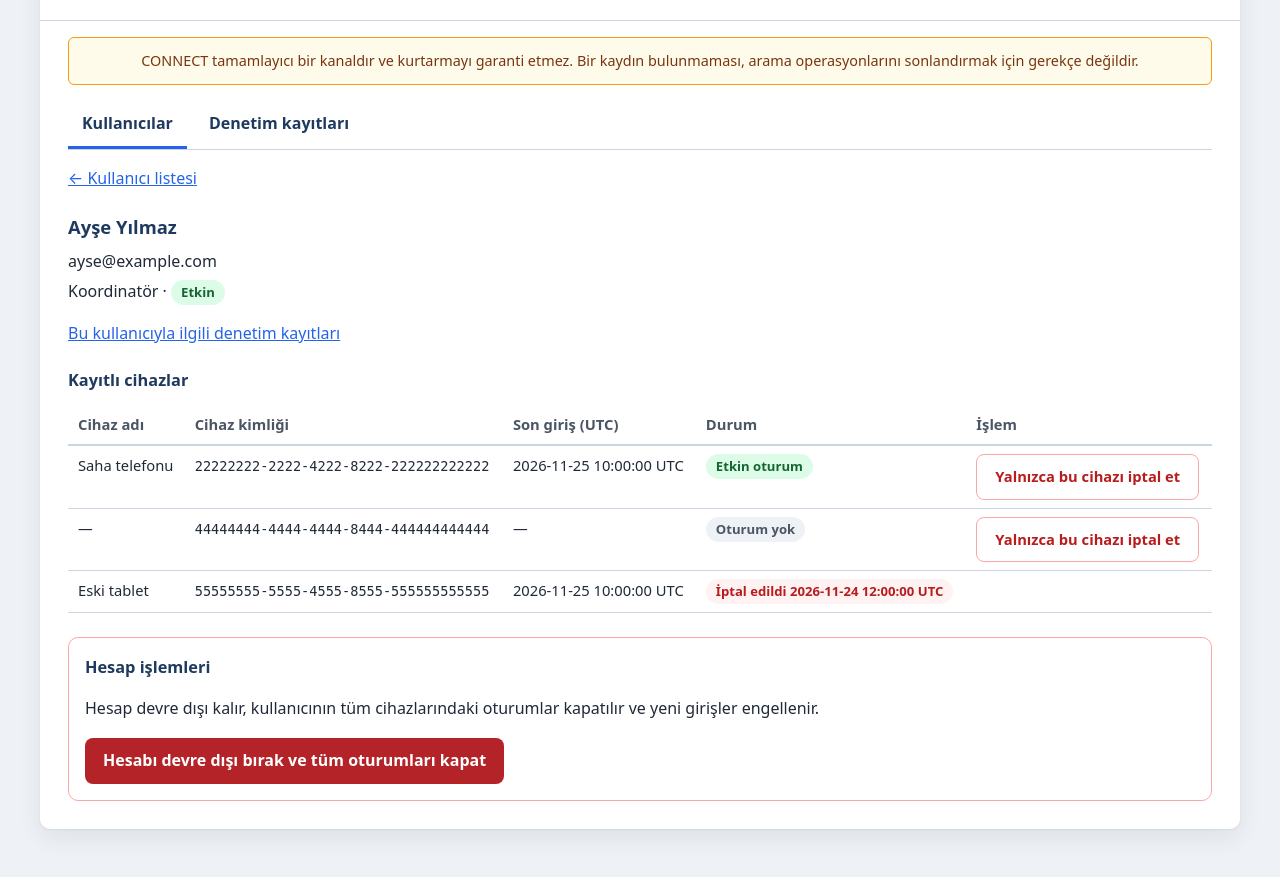
Test: UserDevicesPage › maps a server 409 on revoke-all to the self message
This screenshot has width=1280, height=877.
(page scrolled)
What coordinates should you click on to do the following:
click the button "Hesabı devre dışı bırak ve tüm oturumları kapat"
I would click on:
 (295, 761)
Its box is [85,738,504,784].
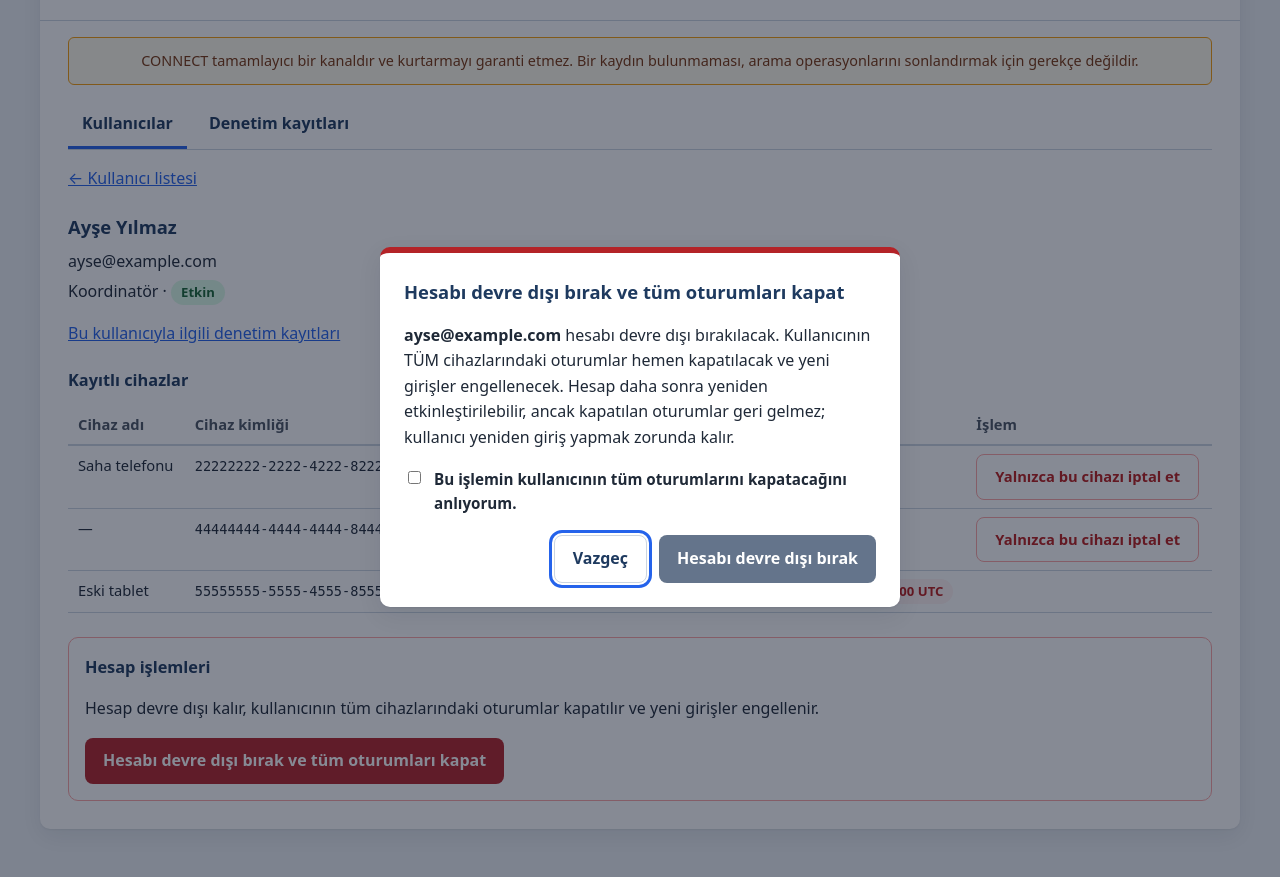
What coordinates should you click on to do the following:
click the checkbox
I would click on:
 (414, 477)
Its box is [408,471,421,484].
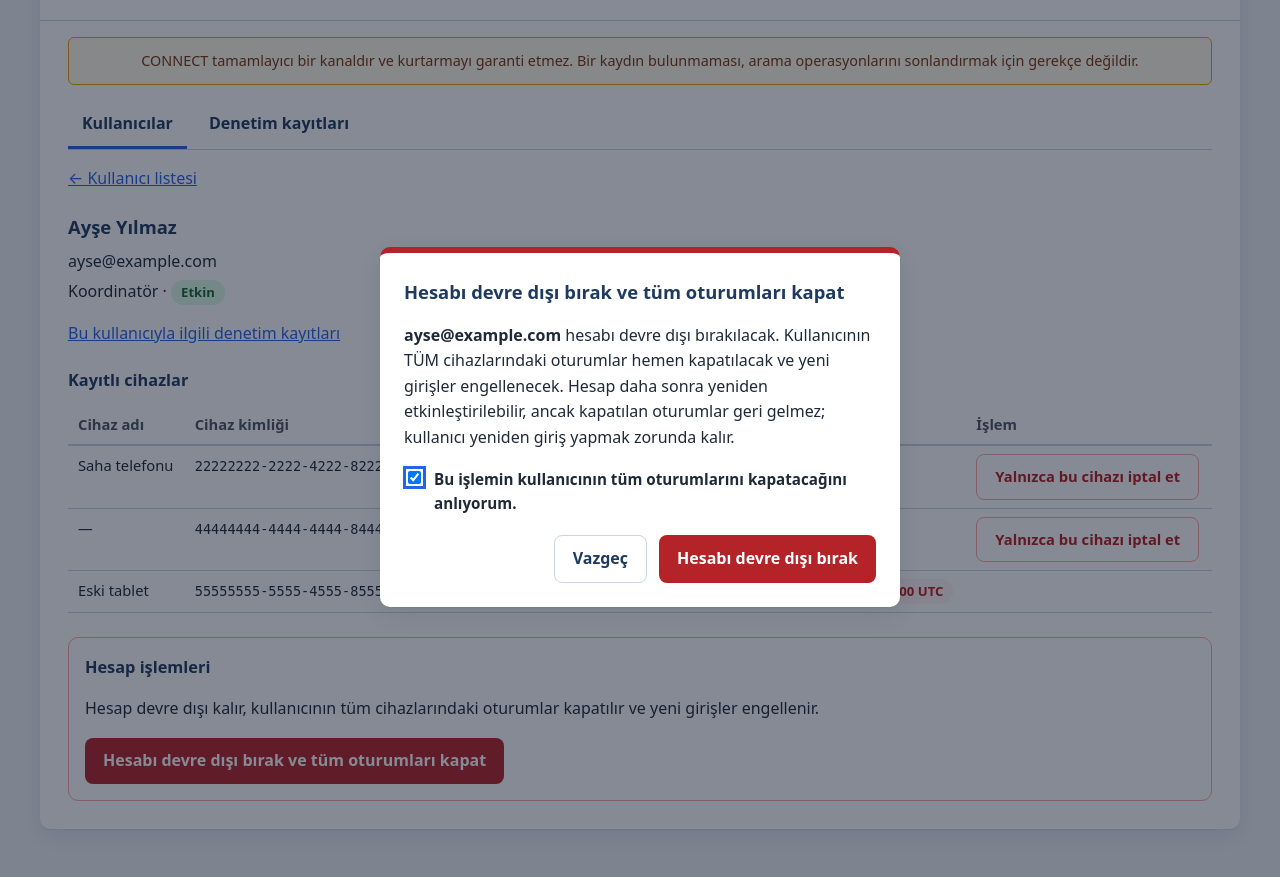
What coordinates should you click on to do the following:
click the button "Hesabı devre dışı bırak"
I would click on:
 (768, 559)
Its box is [659,535,876,583].
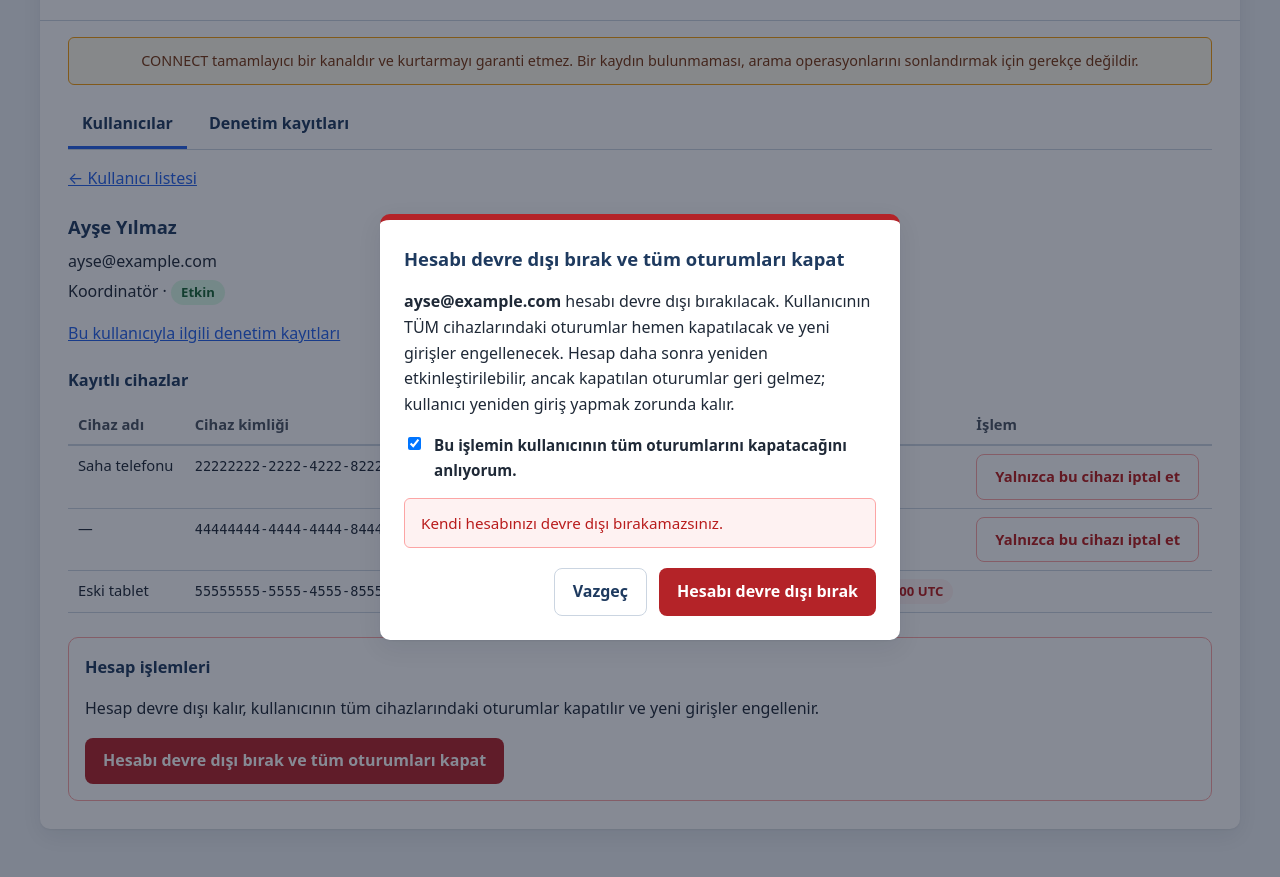
Now the message reads "Kendi hesabınızı devre dışı bırakamazsınız.", box [421,513,723,533]
